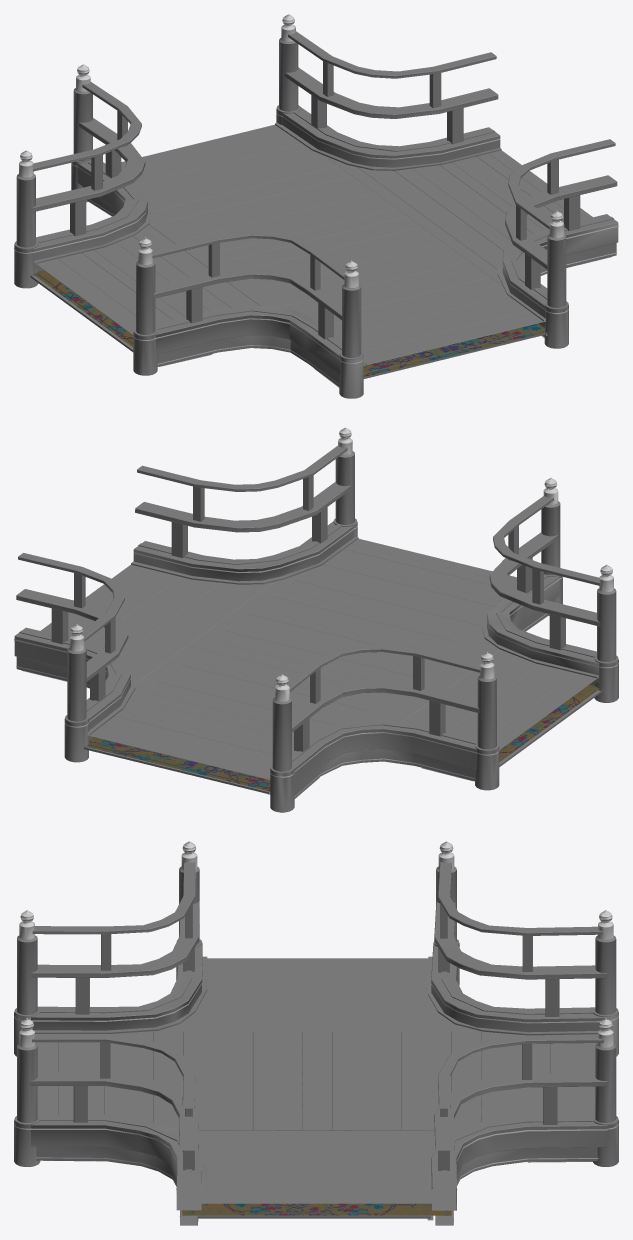
File: FL4_Bridge_Crossing.fbx
3 views of the same model, one above another, from view 1: azimuth 30°, elevation 25°; view 2: azimuth 150°, elevation 25°; view 3: azimuth 270°, elevation 25° (orthographic). The views are drawn at different scales.
Parts seen in each view (by area): view 1: FL4_Bridge_Crossing; view 2: FL4_Bridge_Crossing; view 3: FL4_Bridge_Crossing.
Part boxes in pixels (left/top/right/bottom): FL4_Bridge_Crossing: left=14, top=14, right=618, bottom=398; FL4_Bridge_Crossing: left=14, top=427, right=618, bottom=812; FL4_Bridge_Crossing: left=14, top=841, right=618, bottom=1225.
Bounding box in the file's own units: 518 × 137 × 522.
